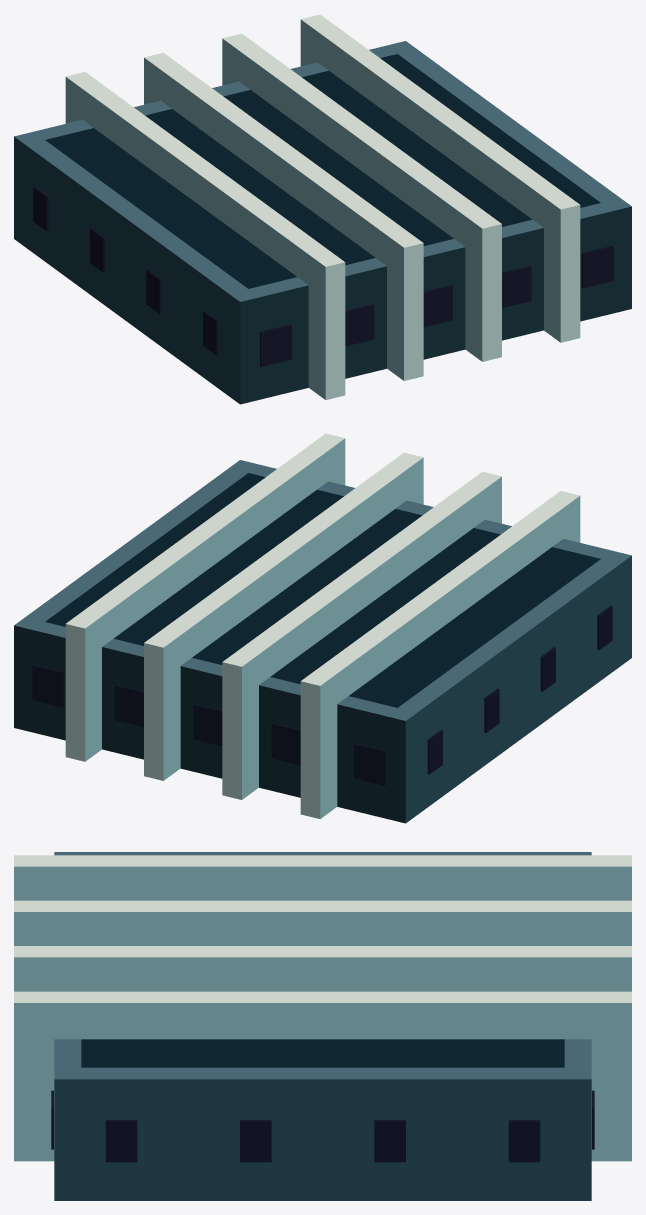
The model's file is TB_CITY_Skysc_D_Top_Blue.FBX.
3 views of the same model, one above another, from view 1: azimuth 30°, elevation 25°; view 2: azimuth 150°, elevation 25°; view 3: azimuth 270°, elevation 25° (orthographic). The views are drawn at different scales.
Parts seen in each view (by area): view 1: TB_CITY_Skysc_D_Top_Blue; view 2: TB_CITY_Skysc_D_Top_Blue; view 3: TB_CITY_Skysc_D_Top_Blue.
Boxes of the visible parts, left/top/right/bottom form: TB_CITY_Skysc_D_Top_Blue: left=14, top=14, right=631, bottom=404; TB_CITY_Skysc_D_Top_Blue: left=14, top=433, right=631, bottom=823; TB_CITY_Skysc_D_Top_Blue: left=14, top=852, right=631, bottom=1200.
Bounding box in the file's own units: 20.23 × 6.5 × 23.
